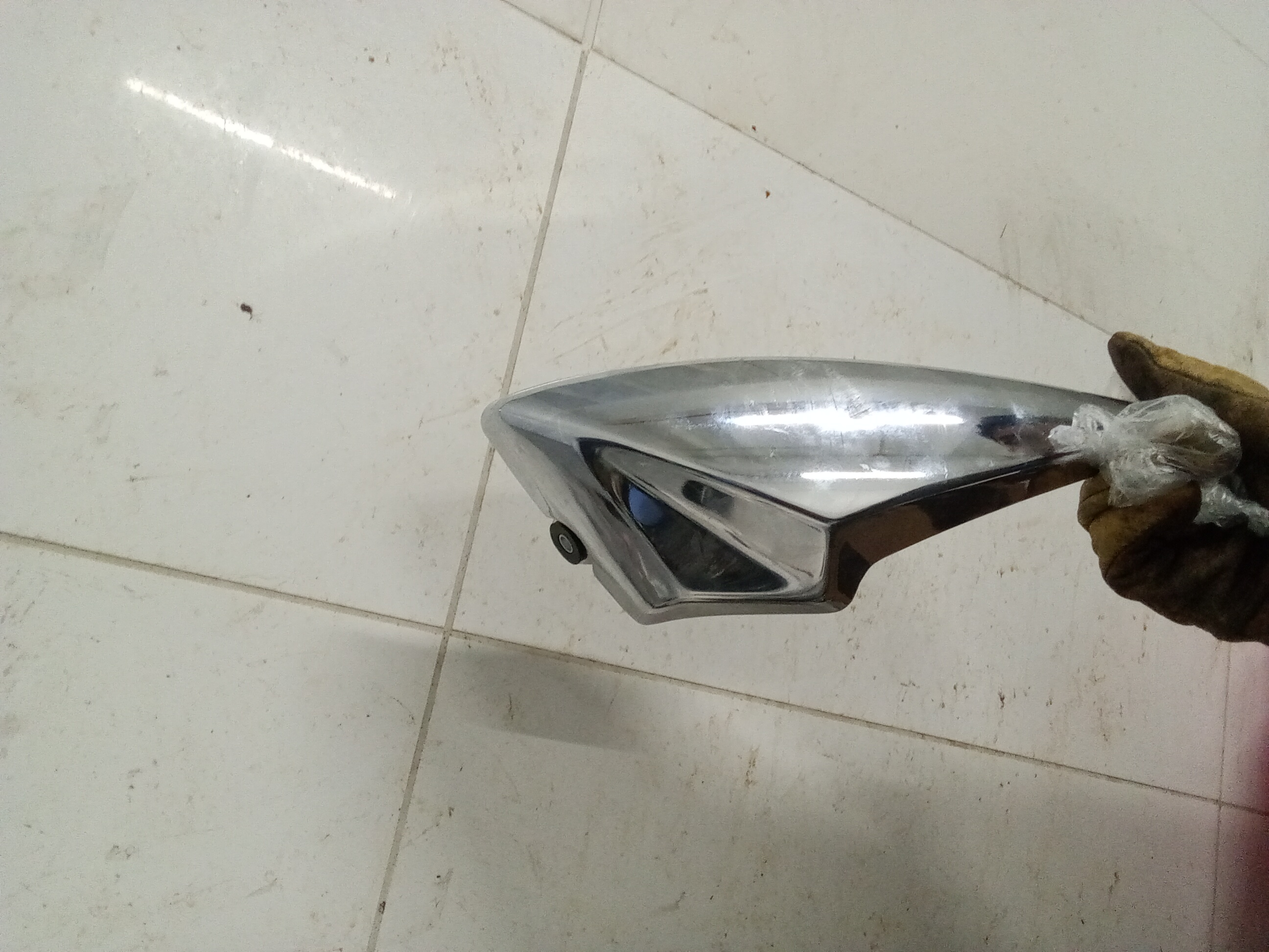Metal: (483, 358, 1143, 625)
